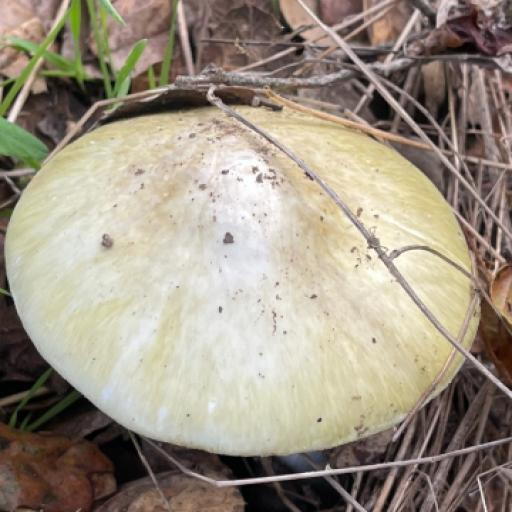mushroom: (0, 52, 508, 488)
